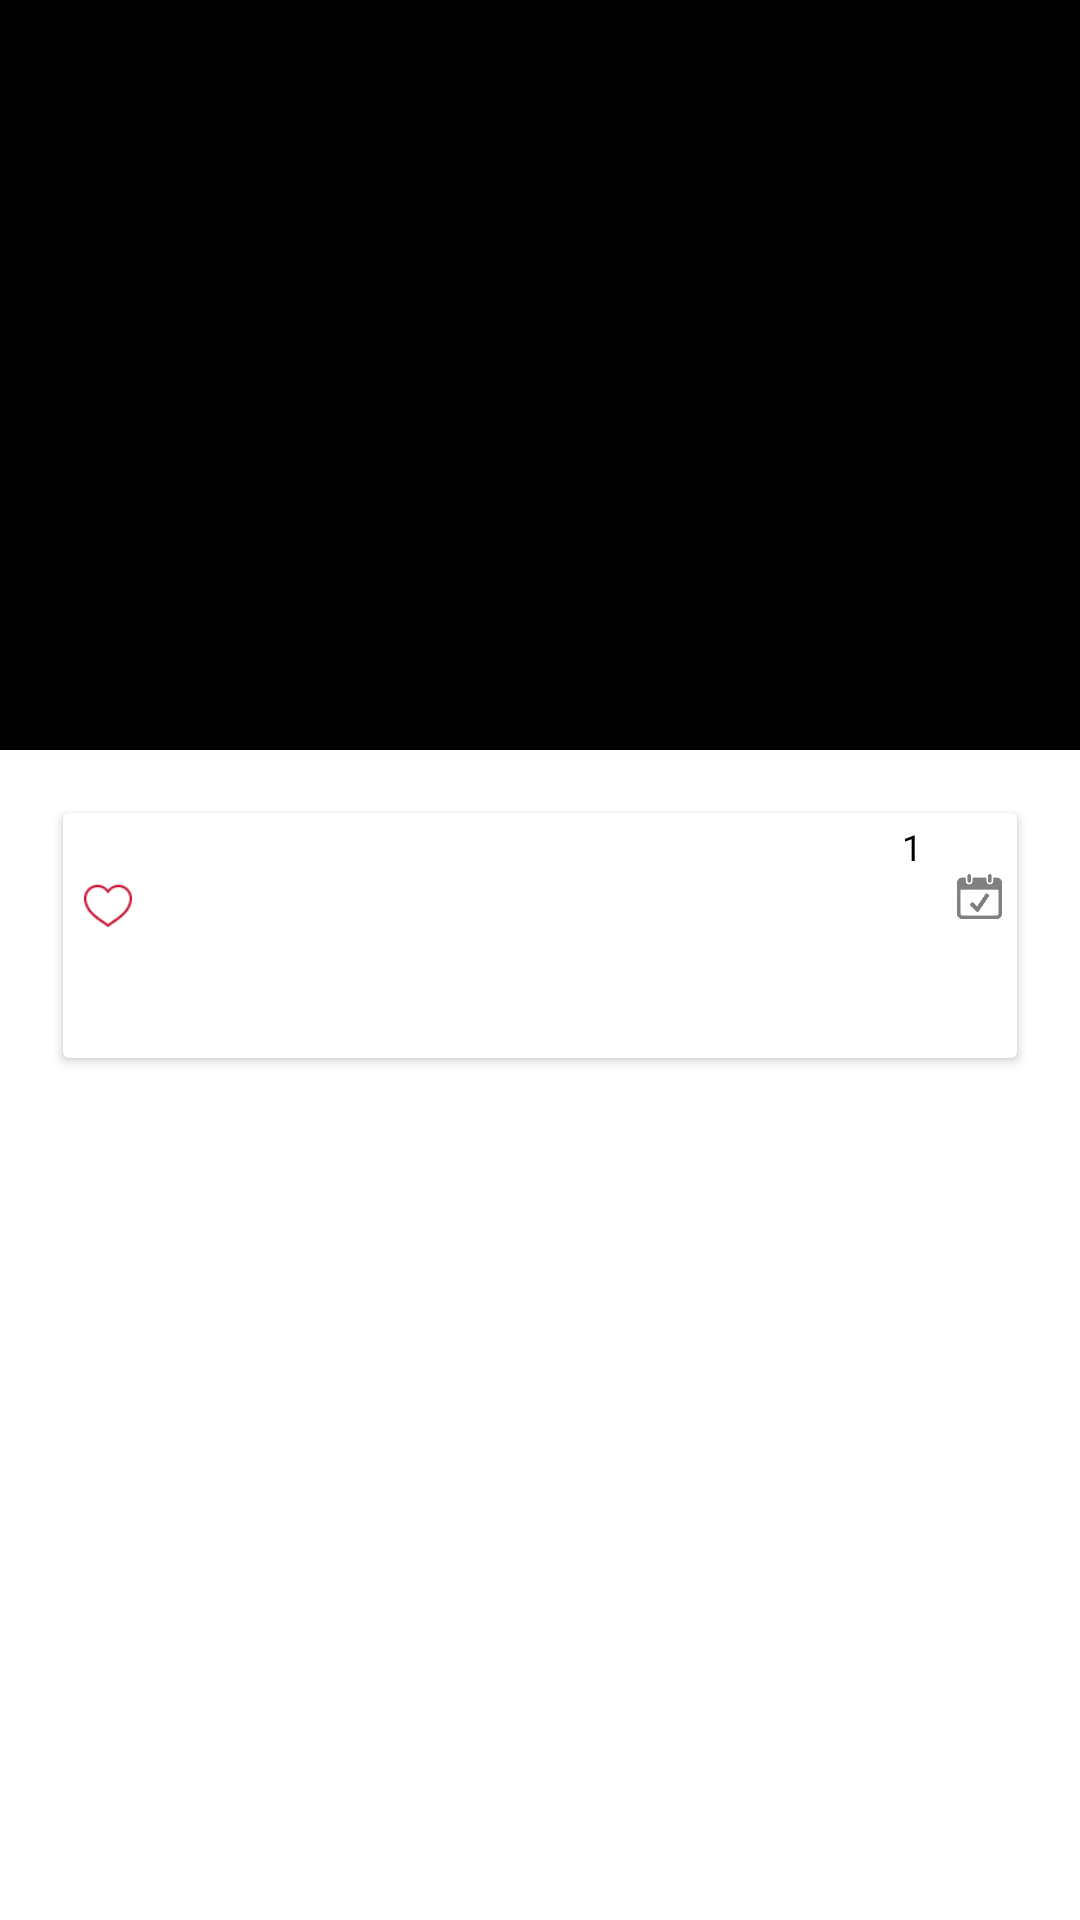

Locate icon controls on the screen. Image size 1080w x 1920h, boxes as (x1, y1, x2, y2).
calendar: (957, 874, 1002, 919)
favorite: (84, 884, 132, 927)
